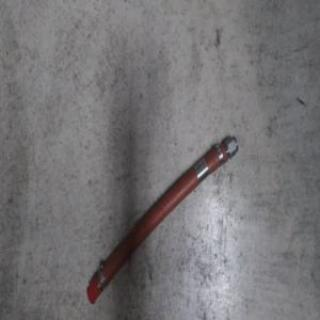Hosetrack_idkeyframe: (84, 132, 238, 307)
